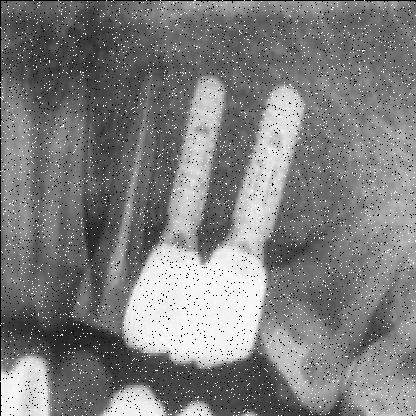ITI: (224, 85, 310, 242), (159, 64, 232, 230)
